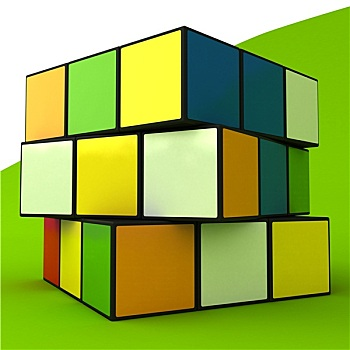cube: (19, 24, 334, 324)
